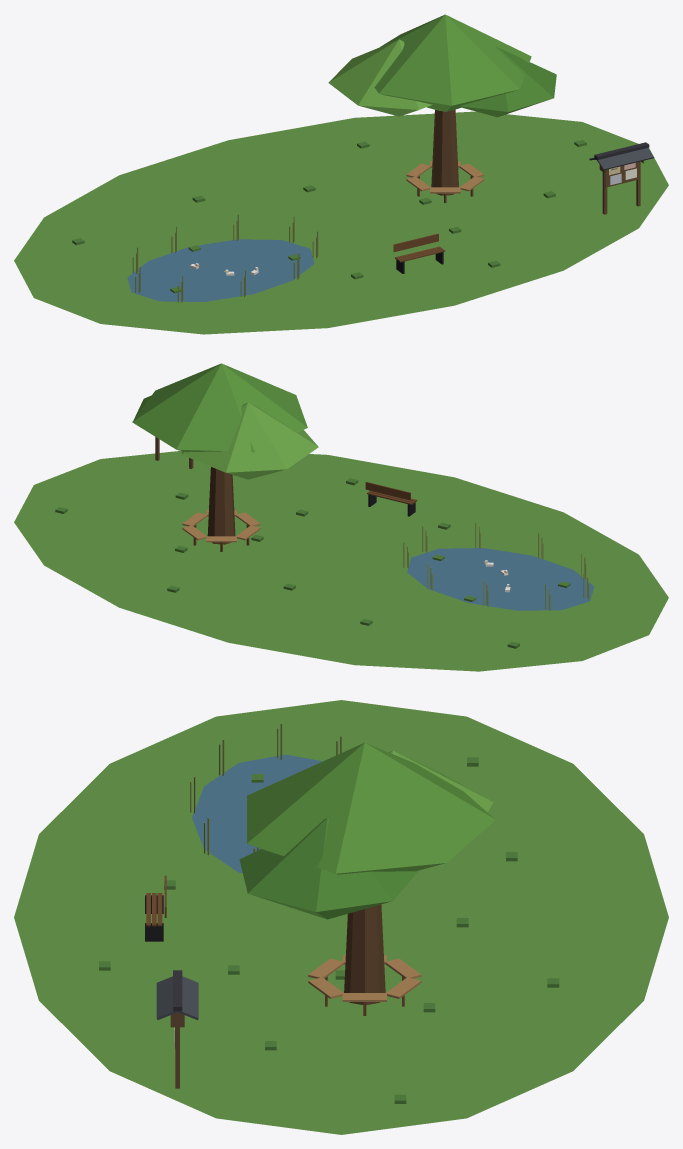
File: village.green.glb
The picture shows the model from 3 angles, top to bottom: view 1: azimuth 30°, elevation 25°; view 2: azimuth 150°, elevation 25°; view 3: azimuth 270°, elevation 25°; orthographic projection. The views are drawn at different scales.
Parts seen in each view (by area): view 1: green, oak-canopy0-u, pond, oak-canopy2-u, oak-canopy1-u, oak-trunk, nb-roof-f; view 2: green, oak-canopy0-u, pond, oak-canopy2-u, oak-trunk; view 3: green, oak-canopy0-u, oak-canopy1-u, pond, oak-trunk, nb-roof-f, nb-roof-b, oak-canopy2-u.
Boxes of the visible parts, box(x1,y1,x2,y2) form: green: box(14, 111, 668, 334); oak-canopy0-u: box(356, 14, 531, 105); pond: box(127, 239, 314, 301); oak-canopy2-u: box(328, 39, 432, 109); oak-canopy1-u: box(459, 47, 556, 111); oak-trunk: box(431, 109, 458, 195); nb-roof-f: box(596, 148, 653, 170); green: box(14, 451, 668, 671); oak-canopy0-u: box(132, 363, 307, 452); pond: box(407, 548, 594, 610); oak-canopy2-u: box(181, 402, 318, 472); oak-trunk: box(207, 467, 235, 544); green: box(14, 700, 668, 1134); oak-canopy0-u: box(247, 742, 495, 873); oak-canopy1-u: box(239, 818, 418, 911); pond: box(192, 754, 322, 873); oak-trunk: box(344, 904, 385, 1004); nb-roof-f: box(156, 976, 178, 1019); nb-roof-b: box(178, 976, 198, 1020); oak-canopy2-u: box(389, 750, 493, 812).
Bounding box in the file's own units: 22 × 6.03 × 14.
